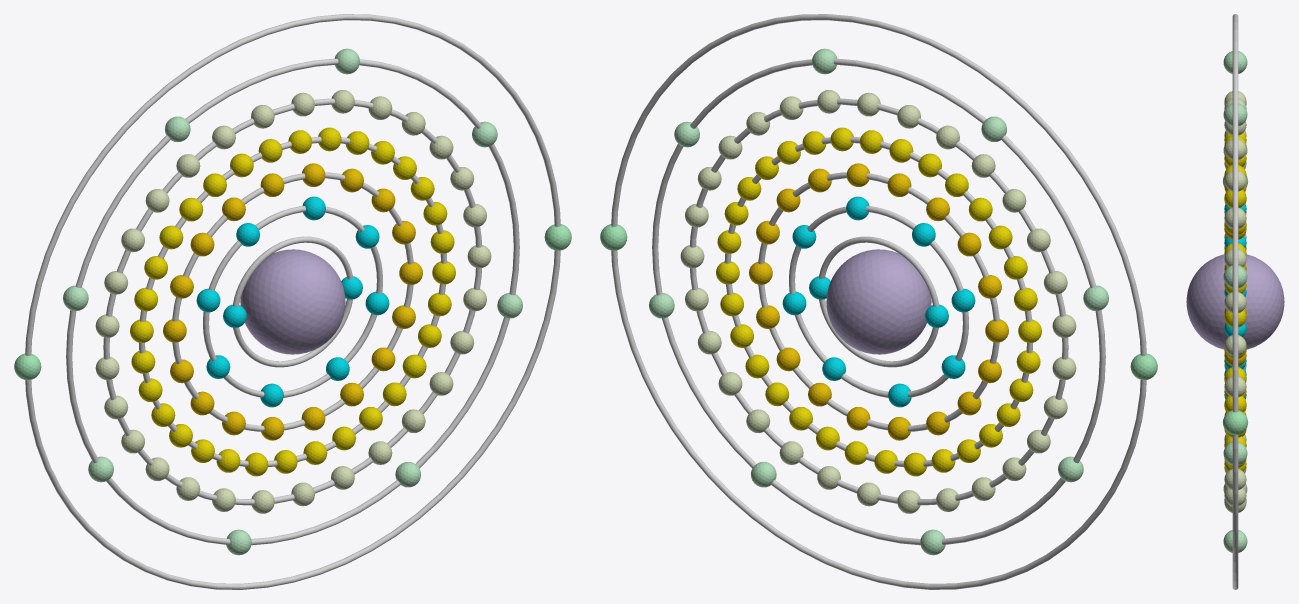
3 renders of one model, left to right at view 1: azimuth 30°, elevation 25°; view 2: azimuth 150°, elevation 25°; view 3: azimuth 270°, elevation 25°, orthographic. The views are drawn at different scales.
Parts seen in each view (by area): view 1: world; view 2: world; view 3: world.
Boxes of the visible parts, left/top/right/bottom form: world: left=14, top=14, right=571, bottom=589; world: left=600, top=14, right=1157, bottom=589; world: left=1186, top=14, right=1284, bottom=589.
Size of the model in its own units: 2.67 by 2.59 by 0.44.
